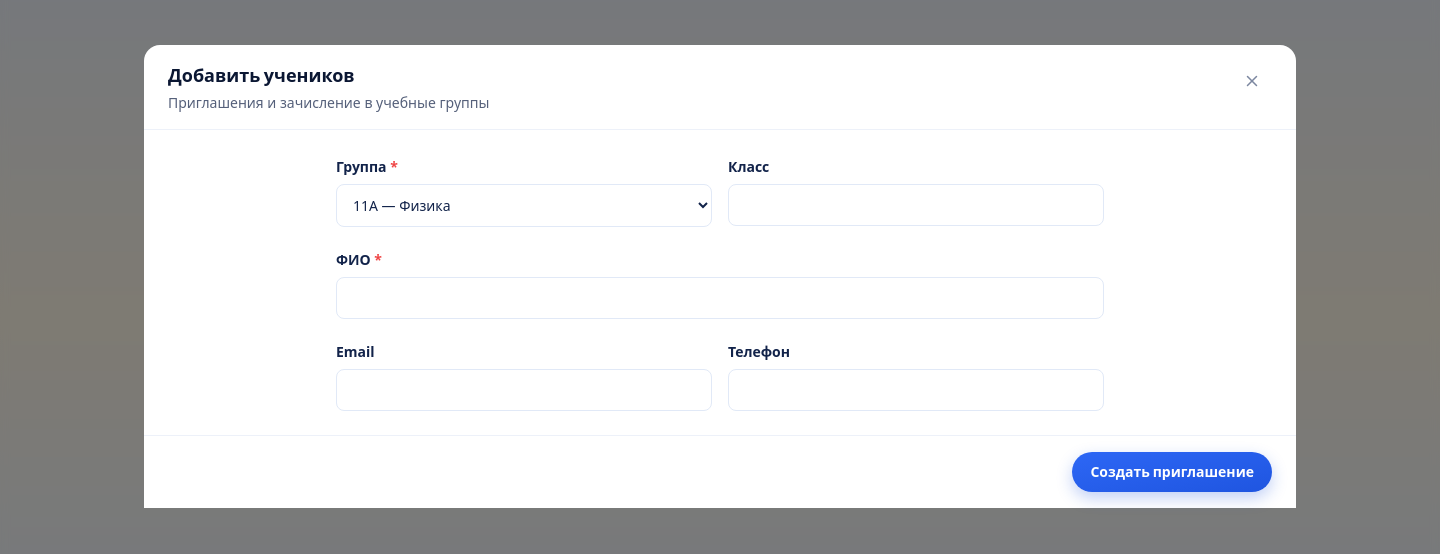
Test case: StudentEnrollmentModal › shows required validation for single invite
The image size is (1440, 554).
Step 1. Click the button "Создать приглашение" → click(1172, 472), box x1=1072 y1=452 x2=1272 y2=492
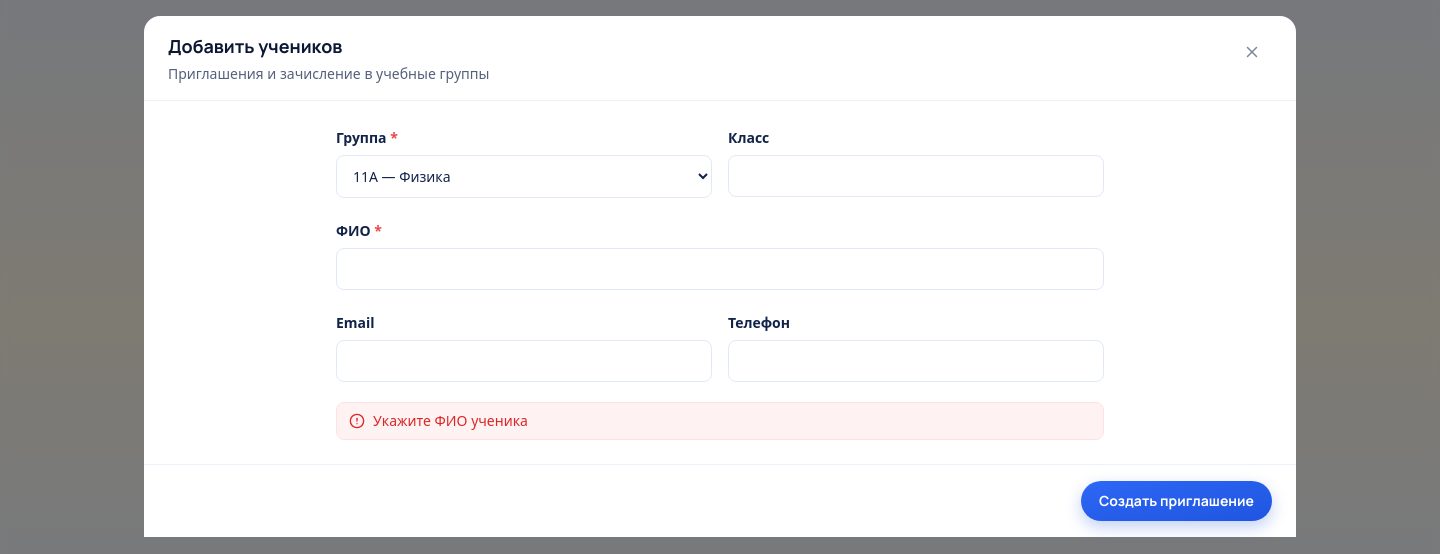
Expected: the text "Укажите ФИО ученика" is shown, x1=373 y1=410 x2=528 y2=430
